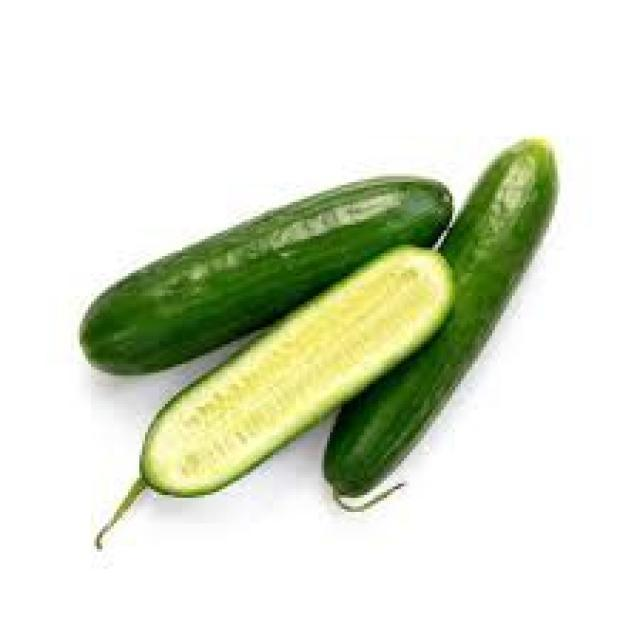cucumber: (318, 138, 558, 492), (145, 250, 452, 496), (79, 174, 453, 374)
